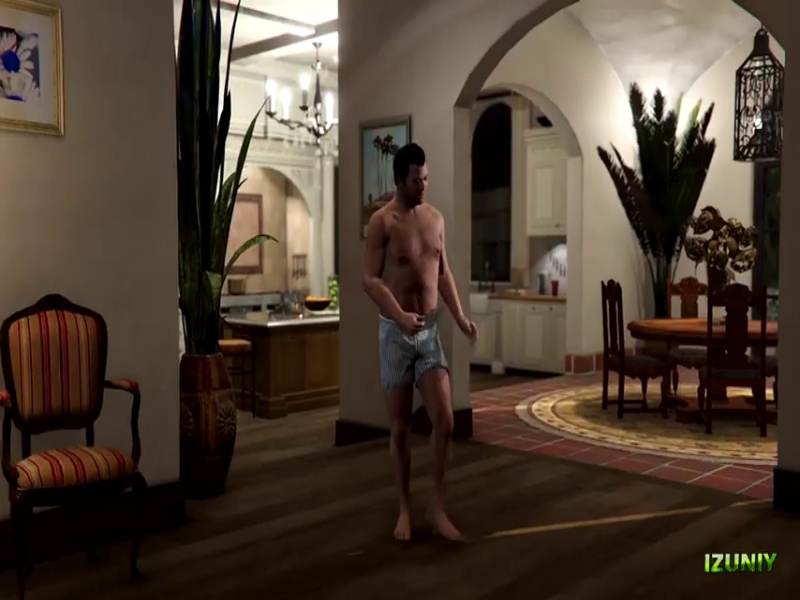human: (355, 162, 466, 538)
